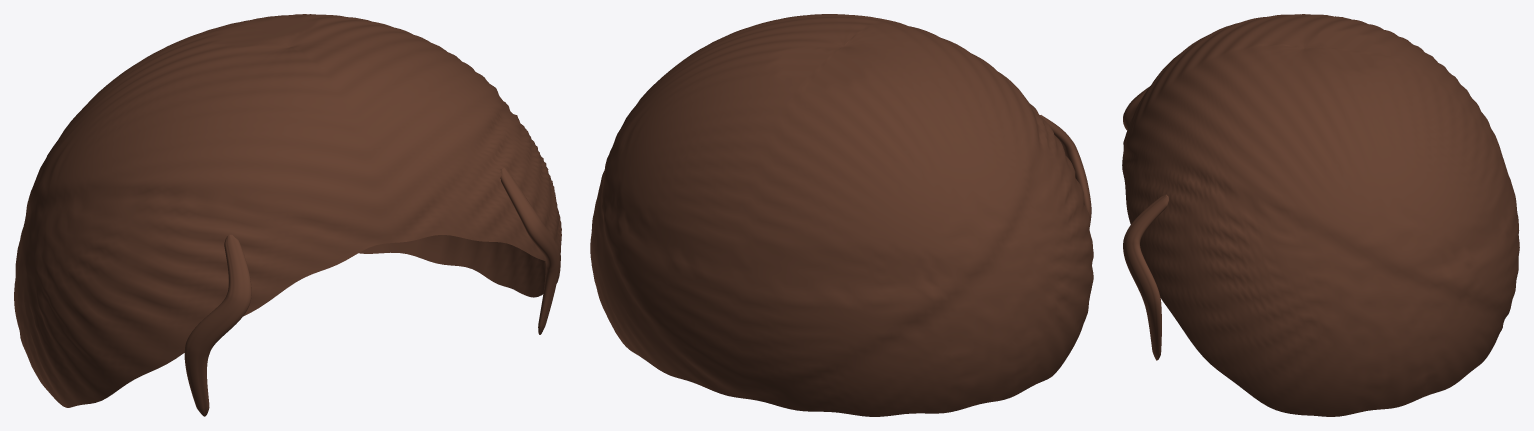
File: Feminine-twin-braids-bucket251-hair.glb
3 views of the same model, side by side, from view 1: azimuth 30°, elevation 25°; view 2: azimuth 150°, elevation 25°; view 3: azimuth 270°, elevation 25° (orthographic). The views are drawn at different scales.
Parts seen in each view (by area): view 1: 226 hair / Hair / chestnut226.002; view 2: 226 hair / Hair / chestnut226.002; view 3: 226 hair / Hair / chestnut226.002.
Part boxes in pixels (bbox=[...]): 226 hair / Hair / chestnut226.002: bbox=[14, 14, 561, 416]; 226 hair / Hair / chestnut226.002: bbox=[590, 14, 1093, 416]; 226 hair / Hair / chestnut226.002: bbox=[1122, 14, 1519, 416].
Bounding box in the file's own units: 0.9981 × 0.5988 × 0.7846.
